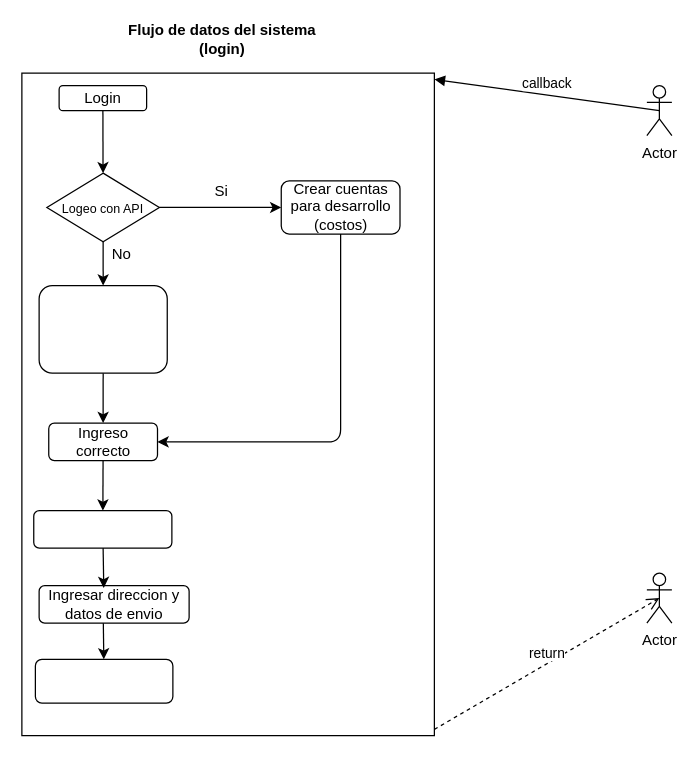
Some shapes in this 699 by 764 pixel diagram are drawn without their labels. Each missing label, with the box of its shape:
Desarrollar un modulo backend(base de datos): (38, 284, 167, 373)
Elegir productos: (32, 509, 172, 548)
Realizar el pedido y esperar: (34, 658, 173, 703)
